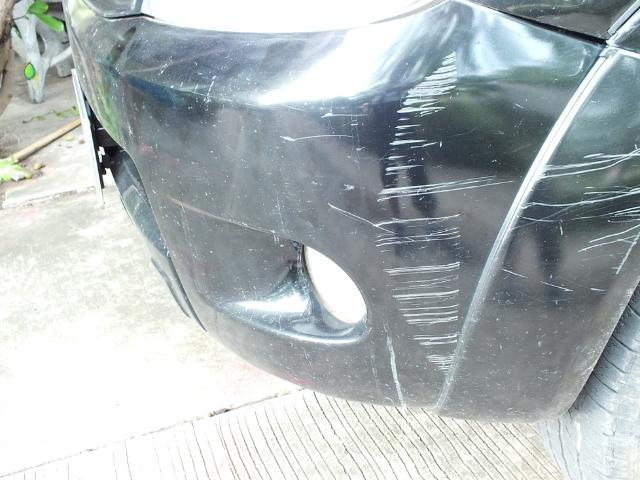Bumper: (309, 10, 640, 419)
